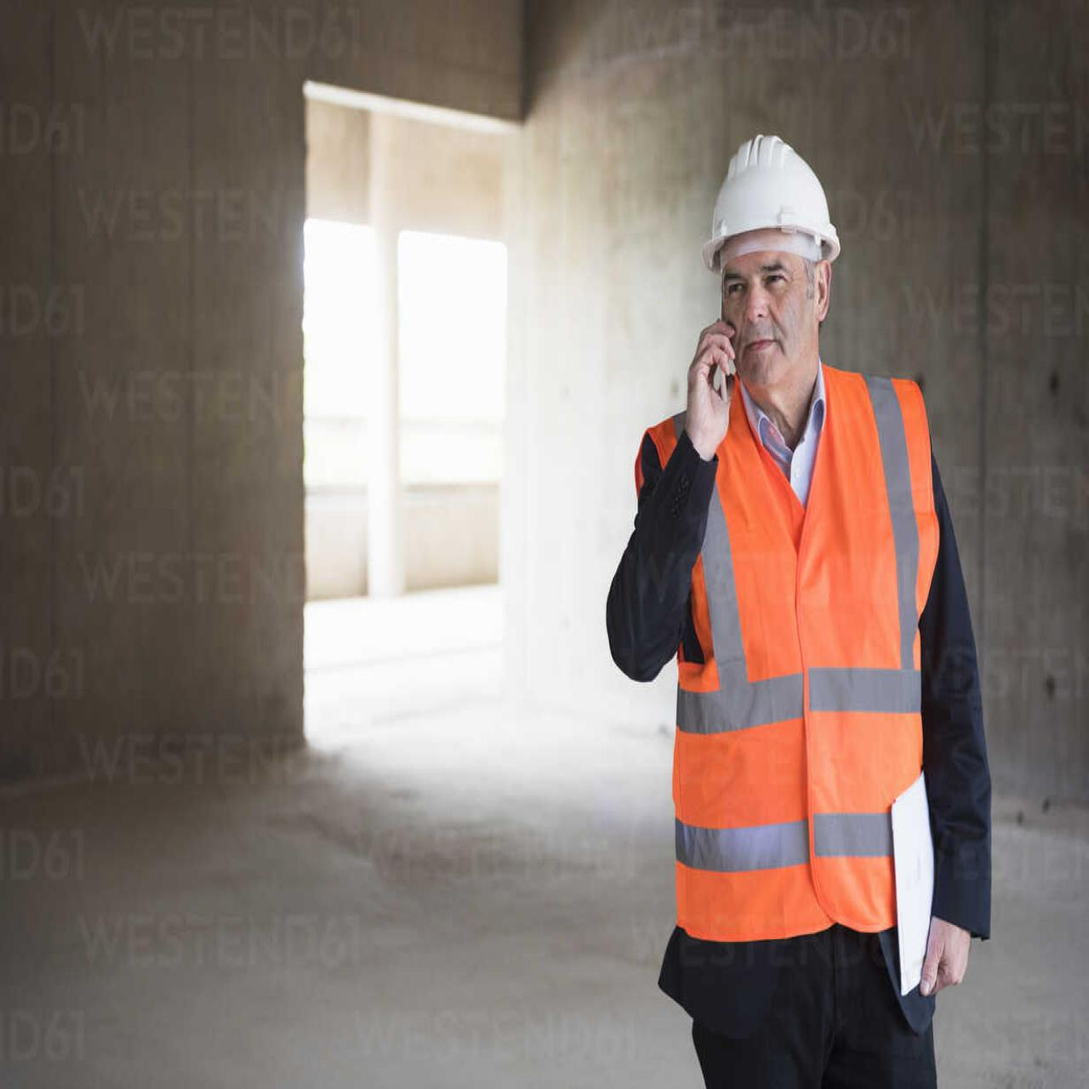Person: (586, 119, 1052, 1089)
Safety_Vest: (629, 350, 956, 953)
